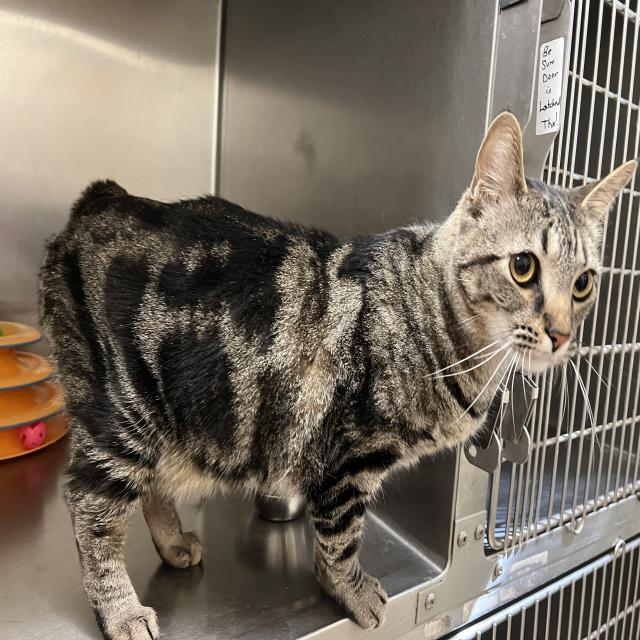manx_cat: (444, 108, 640, 400)
